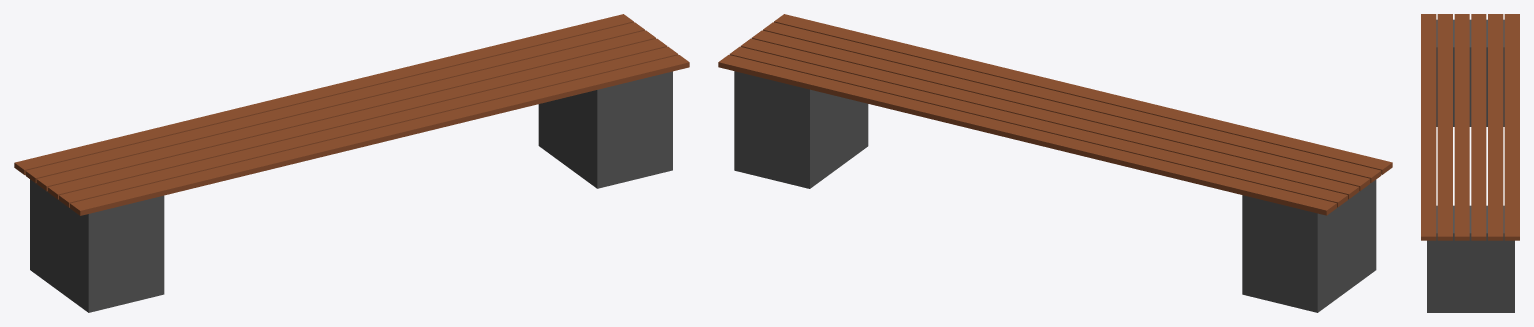
The model's file is wooden-bench.fbx.
The picture shows the model from 3 angles, left to right: view 1: azimuth 30°, elevation 25°; view 2: azimuth 150°, elevation 25°; view 3: azimuth 270°, elevation 25°; orthographic projection. The views are drawn at different scales.
Visible parts, largest first — view 1: Cube.002, Cube.001; view 2: Cube.002, Cube.001; view 3: Cube.002, Cube.001.
Boxes of the visible parts, box(x1,y1,x2,y2) form: Cube.002: box(14, 14, 689, 215); Cube.001: box(30, 71, 672, 312); Cube.002: box(718, 14, 1392, 215); Cube.001: box(734, 71, 1376, 312); Cube.002: box(1421, 14, 1519, 240); Cube.001: box(1427, 19, 1514, 312).
Size of the model in its own units: 696 by 118 by 131.
